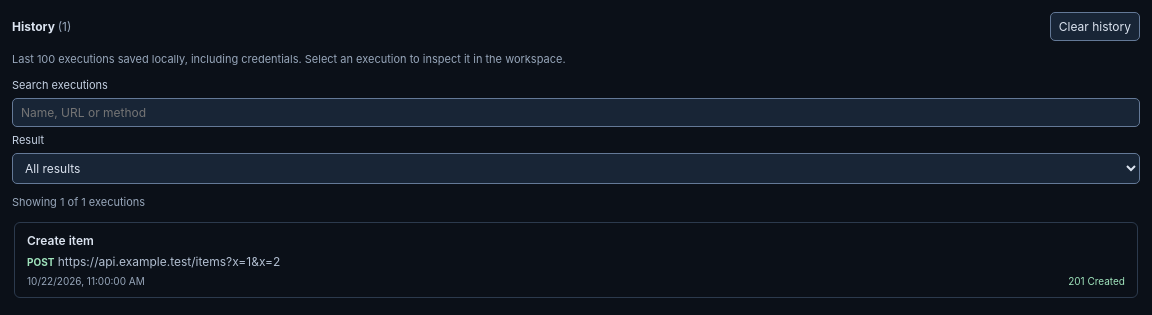
Test: clears history search and result filters with Escape without clearing retained history
Type "missing" into the search field named "Search executions". click: (576, 112)
box: top-left (12, 98), bottom-right (1140, 126)
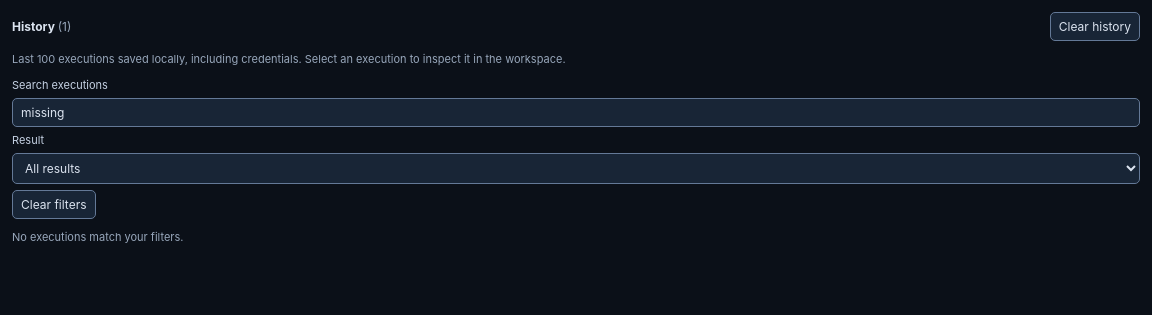
Select "Cancelled" in the dropdown named "Filter execution results". click: (576, 168)
box: top-left (12, 152), bottom-right (1140, 184)
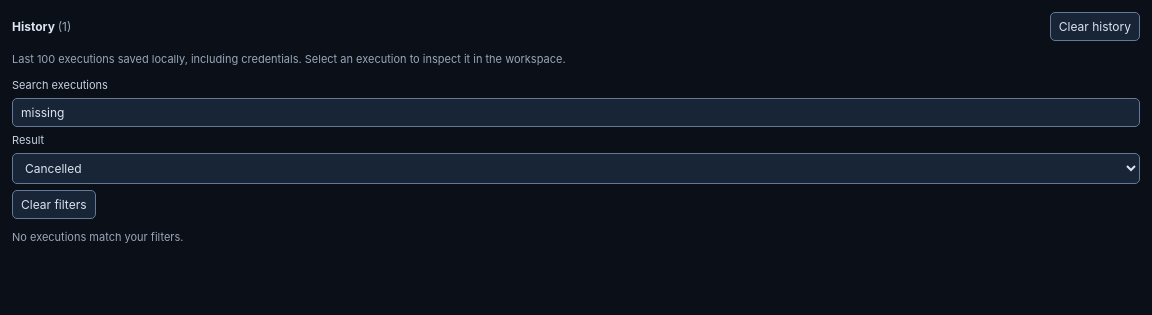
Press Escape in the search field named "Search executions", box top-left (12, 98), bottom-right (1140, 126)
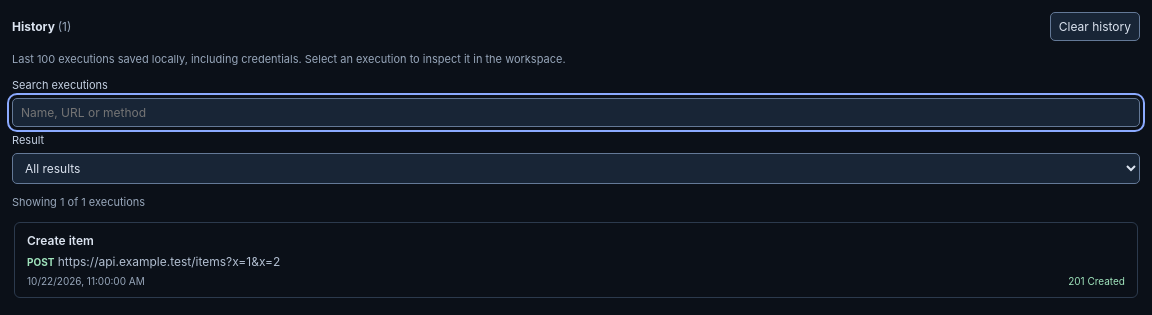
Check: the search field named "Search executions" is empty, box top-left (12, 98), bottom-right (1140, 126)
Check: the number of buttons with class "history-select" is 1, box top-left (19, 227), bottom-right (1133, 293)
